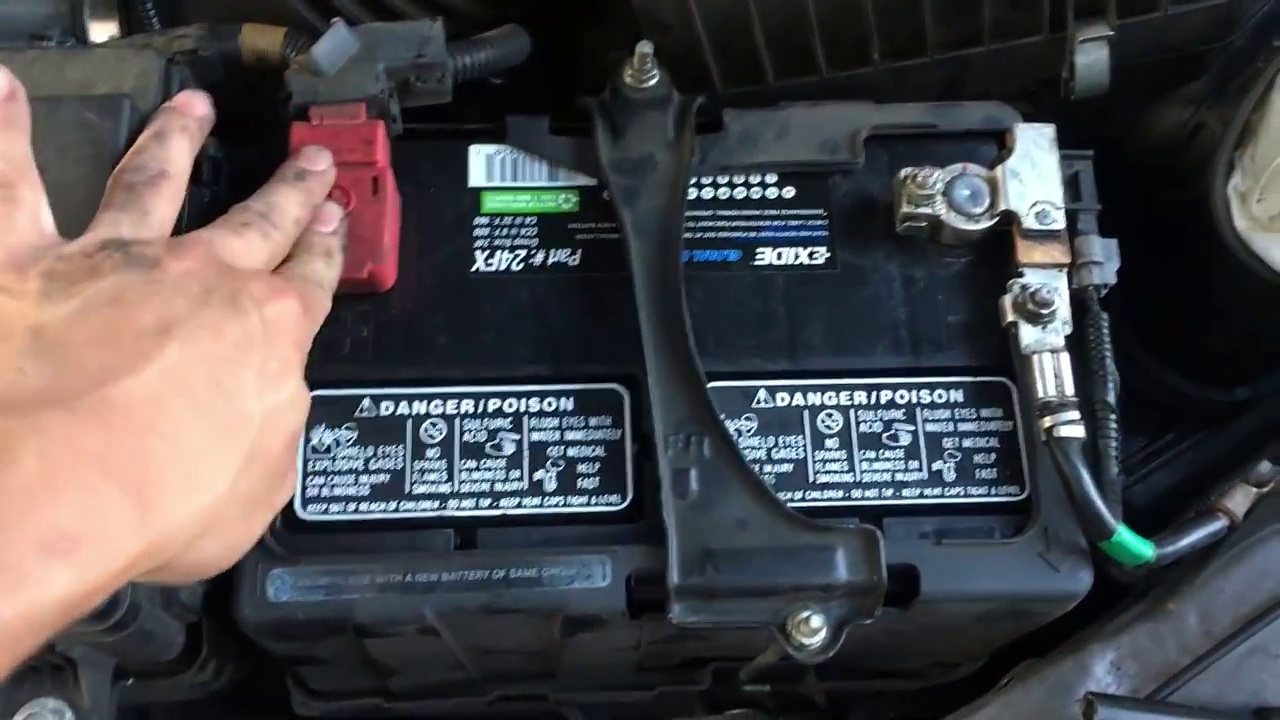battery: (261, 79, 1081, 586)
neg_connected: (876, 112, 1081, 268)
pos_touched: (159, 85, 416, 311)
